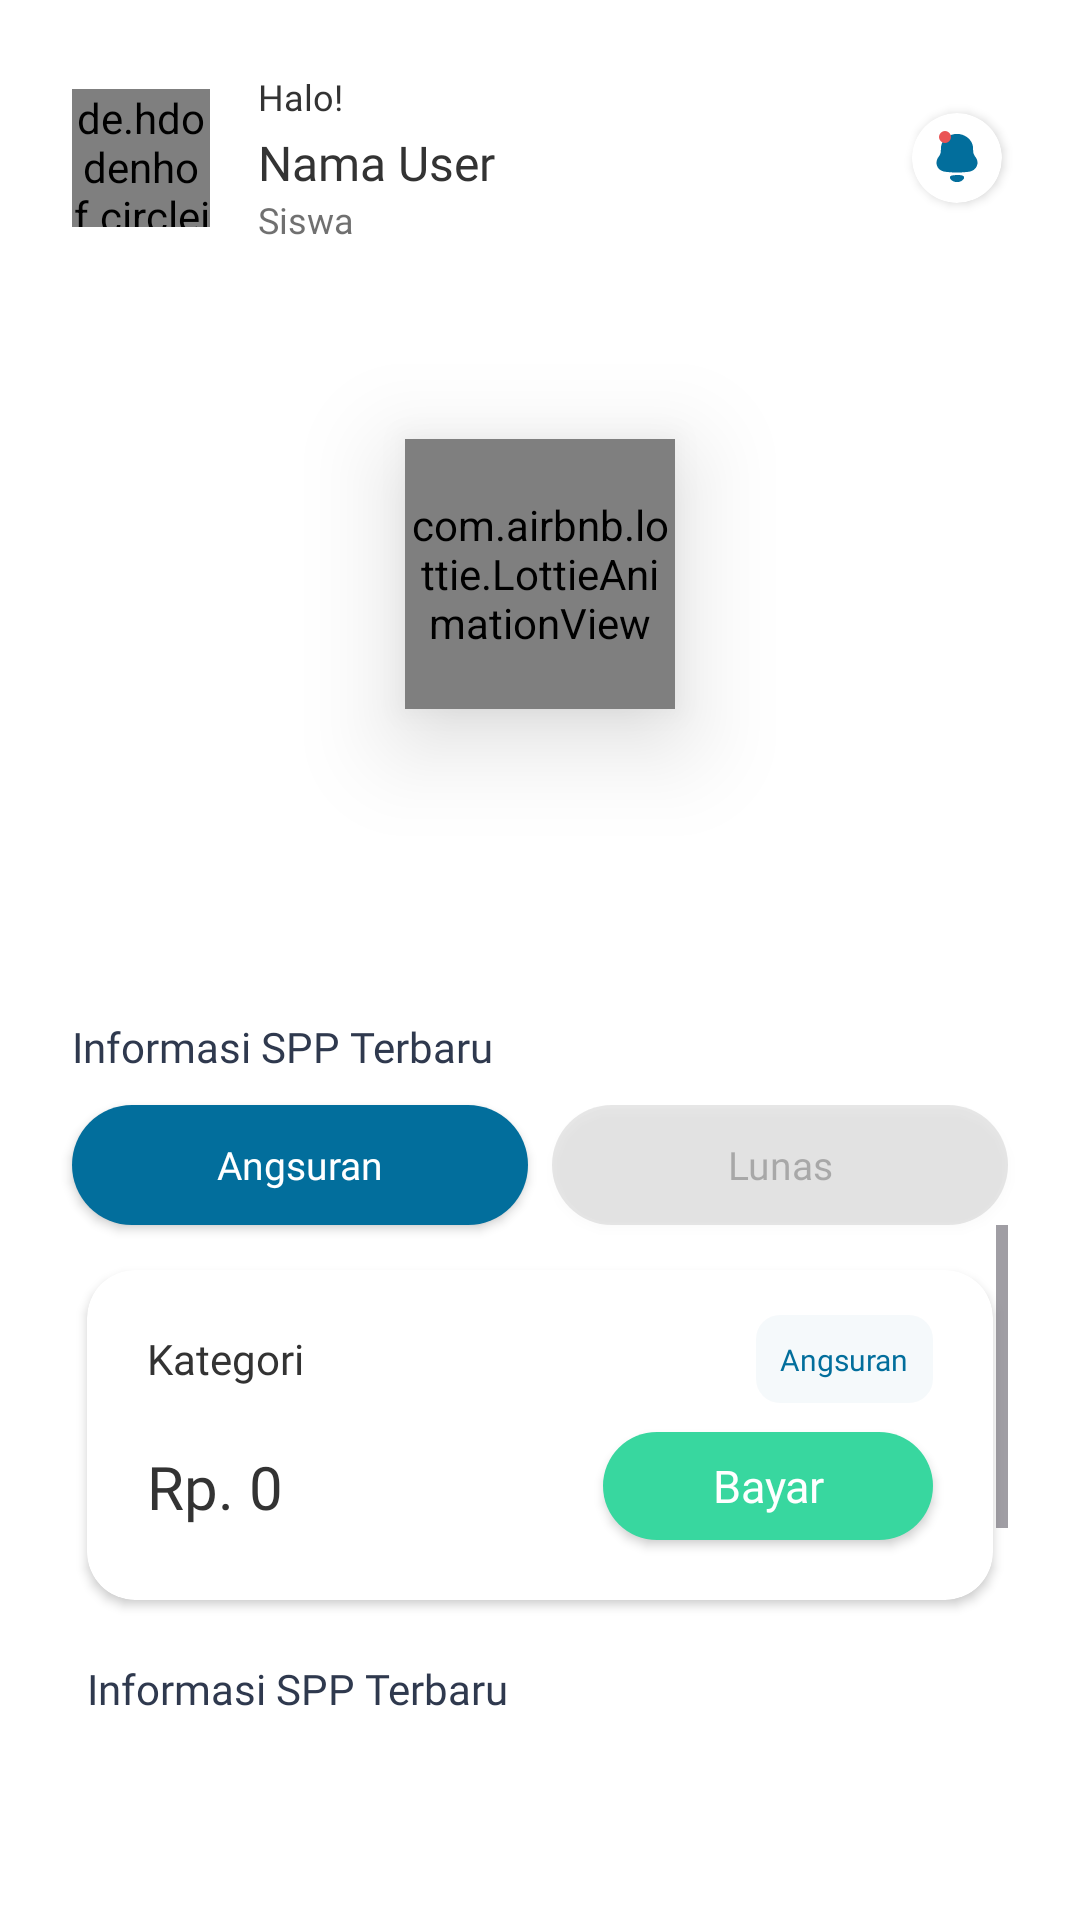

Point at icon controls on the screen. Image size 1080px×1920px, points as point (x, y).
notif: point (957, 156)
